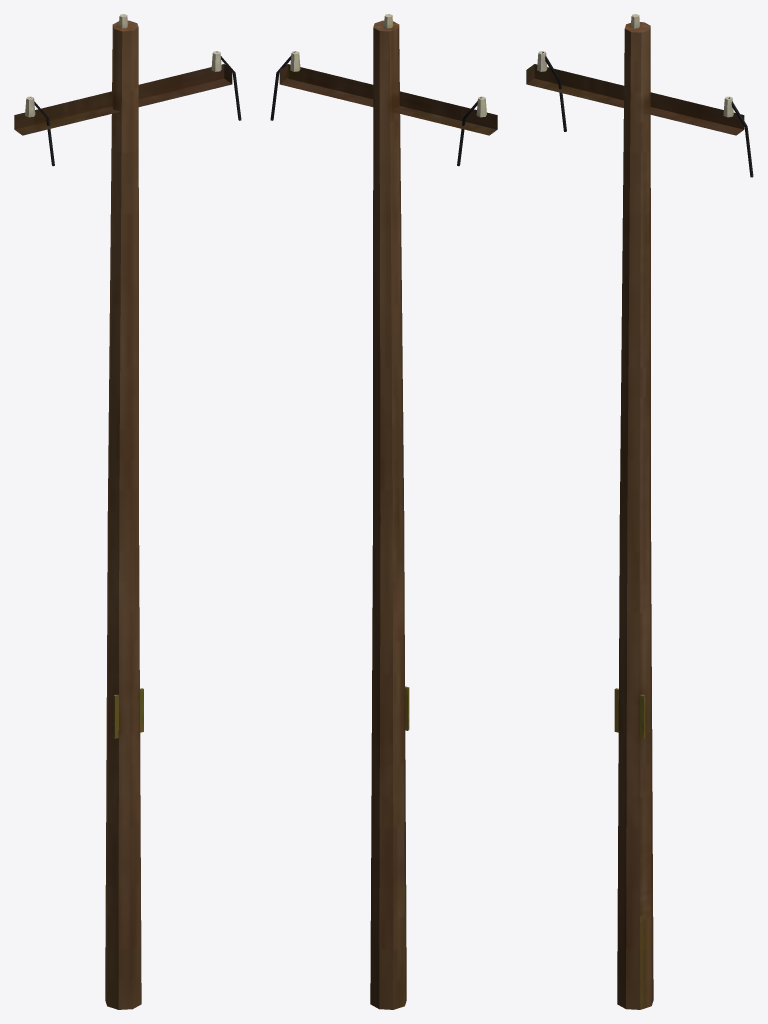
File: bg_industrial_pole_1_lod1.glb
3 renders of one model, left to right at view 1: azimuth 30°, elevation 25°; view 2: azimuth 150°, elevation 25°; view 3: azimuth 330°, elevation 25°, orthographic.
Parts seen in each view (by area): view 1: body; view 2: body; view 3: body.
Boxes of the visible parts, x1,y1,x2,y2 form: body: (14,14,241,1009); body: (270,14,497,1009); body: (526,14,753,1009).
Size of the model in its own units: 1.91 by 8.09 by 0.28.
1 material, 1 textured.
